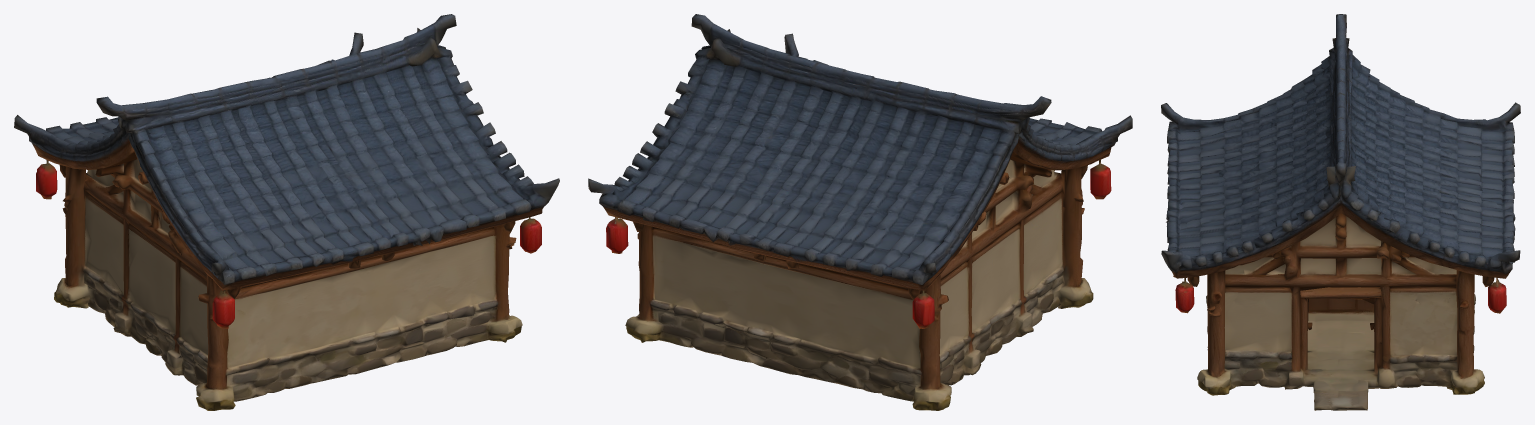
3 views of the same model, side by side, from view 1: azimuth 30°, elevation 25°; view 2: azimuth 150°, elevation 25°; view 3: azimuth 270°, elevation 25° (orthographic). The views are drawn at different scales.
Parts seen in each view (by area): view 1: tripo_node_88770407-d09c-4900-ace3-f77fc9029977; view 2: tripo_node_88770407-d09c-4900-ace3-f77fc9029977; view 3: tripo_node_88770407-d09c-4900-ace3-f77fc9029977.
Boxes of the visible parts, left/top/right/bottom form: tripo_node_88770407-d09c-4900-ace3-f77fc9029977: left=14, top=14, right=559, bottom=410; tripo_node_88770407-d09c-4900-ace3-f77fc9029977: left=588, top=14, right=1132, bottom=410; tripo_node_88770407-d09c-4900-ace3-f77fc9029977: left=1161, top=14, right=1520, bottom=410.
Bounding box in the file's own units: 1 × 0.6631 × 0.9169.
1 material, 1 textured.
